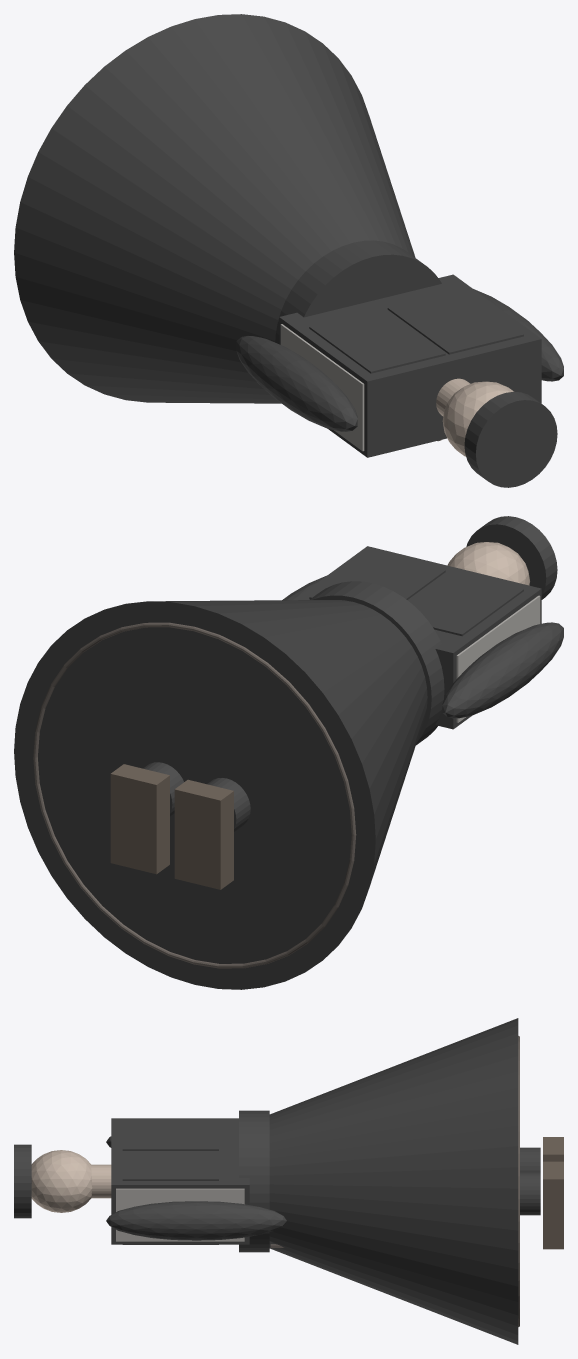
File: MASTER_019_STAGE3_DETAIL.glb
The picture shows the model from 3 angles, top to bottom: view 1: azimuth 30°, elevation 25°; view 2: azimuth 150°, elevation 25°; view 3: azimuth 270°, elevation 25°; orthographic projection. The views are drawn at different scales.
Visible parts, largest first — view 1: slot_lower_main__fund_i_gjatë, slot_upper_inner__këmishë, slot_waist__brez, slot_headwear__mbulesë_koke, slot_upper_inner_sleeve_L, slot_upper_outer__jelek/xhamadan_R, slot_upper_outer__jelek/xhamadan_L, mannequin_torso, mannequin_head, slot_upper_inner_sleeve_R; view 2: slot_lower_main__fund_i_gjatë, slot_footwear__opinga_L, slot_footwear__opinga_R, slot_upper_inner_sleeve_L, detail_skirt_hem, slot_waist__brez, slot_upper_inner__këmishë, slot_upper_outer__jelek/xhamadan_L, slot_headwear__mbulesë_koke, slot_upper_outer__jelek/xhamadan_R, mannequin_head, mannequin_torso (+2 smaller); view 3: slot_lower_main__fund_i_gjatë, slot_upper_inner_sleeve_R, slot_upper_inner__këmishë, mannequin_head, slot_waist__brez, slot_upper_outer__jelek/xhamadan_R, slot_upper_outer__jelek/xhamadan_L, mannequin_torso, slot_footwear__opinga_R, slot_headwear__mbulesë_koke, slot_legwear__çorape_R, mannequin_neck (+3 smaller).
Boxes of the visible parts, bbox=[...] form: slot_lower_main__fund_i_gjatë: bbox=[14, 14, 415, 403]; slot_upper_inner__këmishë: bbox=[279, 274, 541, 457]; slot_waist__brez: bbox=[275, 240, 441, 343]; slot_headwear__mbulesë_koke: bbox=[464, 391, 557, 487]; slot_upper_inner_sleeve_L: bbox=[236, 336, 357, 431]; slot_upper_outer__jelek/xhamadan_R: bbox=[387, 289, 523, 354]; slot_upper_outer__jelek/xhamadan_L: bbox=[309, 308, 445, 373]; mannequin_torso: bbox=[280, 324, 364, 451]; mannequin_head: bbox=[442, 381, 513, 456]; slot_upper_inner_sleeve_R: bbox=[473, 289, 563, 381]; slot_lower_main__fund_i_gjatë: bbox=[14, 600, 427, 989]; slot_footwear__opinga_L: bbox=[174, 779, 233, 889]; slot_footwear__opinga_R: bbox=[110, 764, 169, 874]; slot_upper_inner_sleeve_L: bbox=[442, 622, 563, 718]; detail_skirt_hem: bbox=[33, 622, 356, 968]; slot_waist__brez: bbox=[309, 581, 444, 745]; slot_upper_inner__këmishë: bbox=[294, 546, 541, 729]; slot_upper_outer__jelek/xhamadan_L: bbox=[409, 571, 523, 636]; slot_headwear__mbulesë_koke: bbox=[466, 516, 557, 599]; slot_upper_outer__jelek/xhamadan_R: bbox=[309, 552, 445, 599]; mannequin_head: bbox=[447, 542, 529, 585]; mannequin_torso: bbox=[456, 595, 540, 722]; slot_lower_main__fund_i_gjatë: bbox=[269, 1018, 518, 1344]; slot_upper_inner_sleeve_R: bbox=[106, 1201, 286, 1240]; slot_upper_inner__këmishë: bbox=[111, 1118, 249, 1244]; mannequin_head: bbox=[31, 1150, 92, 1212]; slot_waist__brez: bbox=[239, 1110, 269, 1252]; slot_upper_outer__jelek/xhamadan_R: bbox=[122, 1151, 218, 1244]; slot_upper_outer__jelek/xhamadan_L: bbox=[122, 1121, 218, 1150]; mannequin_torso: bbox=[116, 1188, 244, 1241]; slot_footwear__opinga_R: bbox=[543, 1161, 563, 1249]; slot_headwear__mbulesë_koke: bbox=[14, 1144, 31, 1218]; slot_legwear__çorape_R: bbox=[520, 1172, 540, 1215]; mannequin_neck: bbox=[91, 1164, 111, 1198].
Size of the model in its own units: 1.02 by 1.02 by 1.71.
